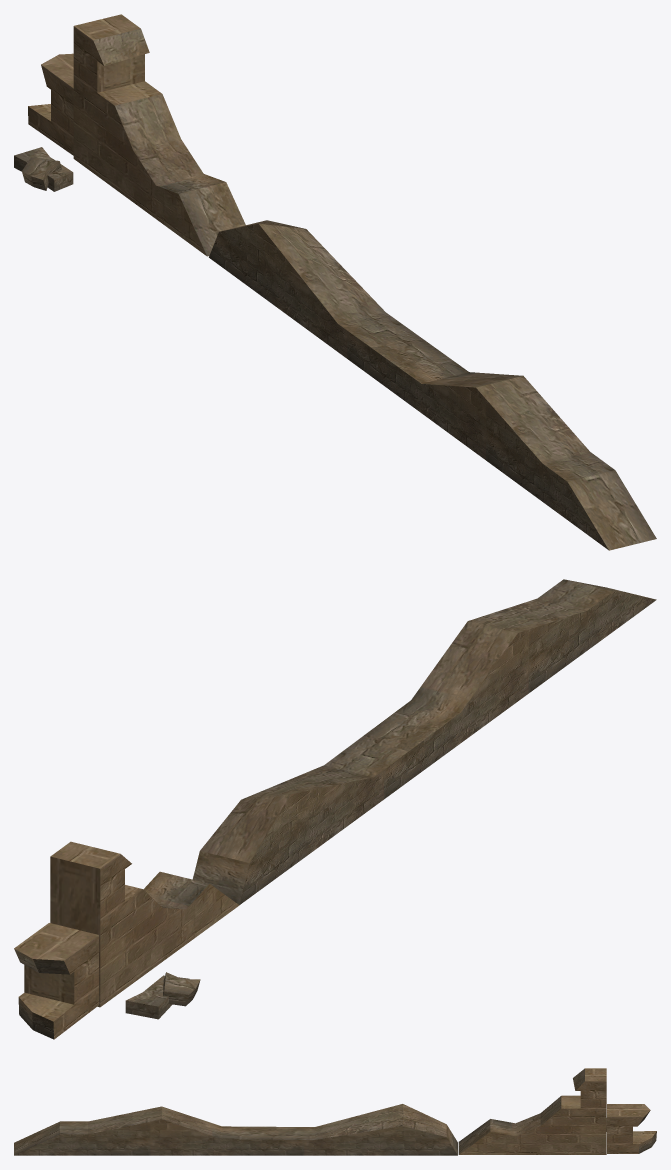
File: environment_Building_fenghuotai_i.FBX
The picture shows the model from 3 angles, top to bottom: view 1: azimuth 30°, elevation 25°; view 2: azimuth 150°, elevation 25°; view 3: azimuth 270°, elevation 25°; orthographic projection. The views are drawn at different scales.
Parts seen in each view (by area): view 1: environment_Building_fenghuotai_i04, environment_Building_fenghuotai_i01, environment_Building_fenghuotai_i02, environment_Building_fenghuotai_i03; view 2: environment_Building_fenghuotai_i04, environment_Building_fenghuotai_i01, environment_Building_fenghuotai_i02, environment_Building_fenghuotai_i03; view 3: environment_Building_fenghuotai_i04, environment_Building_fenghuotai_i01, environment_Building_fenghuotai_i02.
Part boxes in pixels (x1,y1,x2,y2): environment_Building_fenghuotai_i04: [209, 220, 656, 550]; environment_Building_fenghuotai_i01: [73, 14, 245, 256]; environment_Building_fenghuotai_i02: [28, 53, 73, 155]; environment_Building_fenghuotai_i03: [14, 147, 73, 191]; environment_Building_fenghuotai_i04: [192, 579, 656, 904]; environment_Building_fenghuotai_i01: [50, 841, 239, 1007]; environment_Building_fenghuotai_i02: [14, 923, 98, 1039]; environment_Building_fenghuotai_i03: [125, 972, 200, 1019]; environment_Building_fenghuotai_i04: [14, 1104, 457, 1155]; environment_Building_fenghuotai_i01: [458, 1068, 606, 1154]; environment_Building_fenghuotai_i02: [607, 1104, 656, 1153].
Bounding box in the file's own units: 22.16 × 190 × 24.14.
